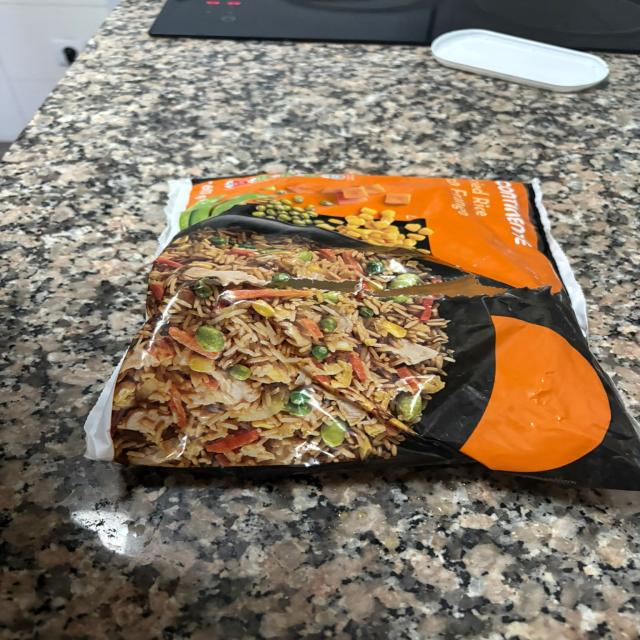damaged_package: (86, 174, 640, 489)
